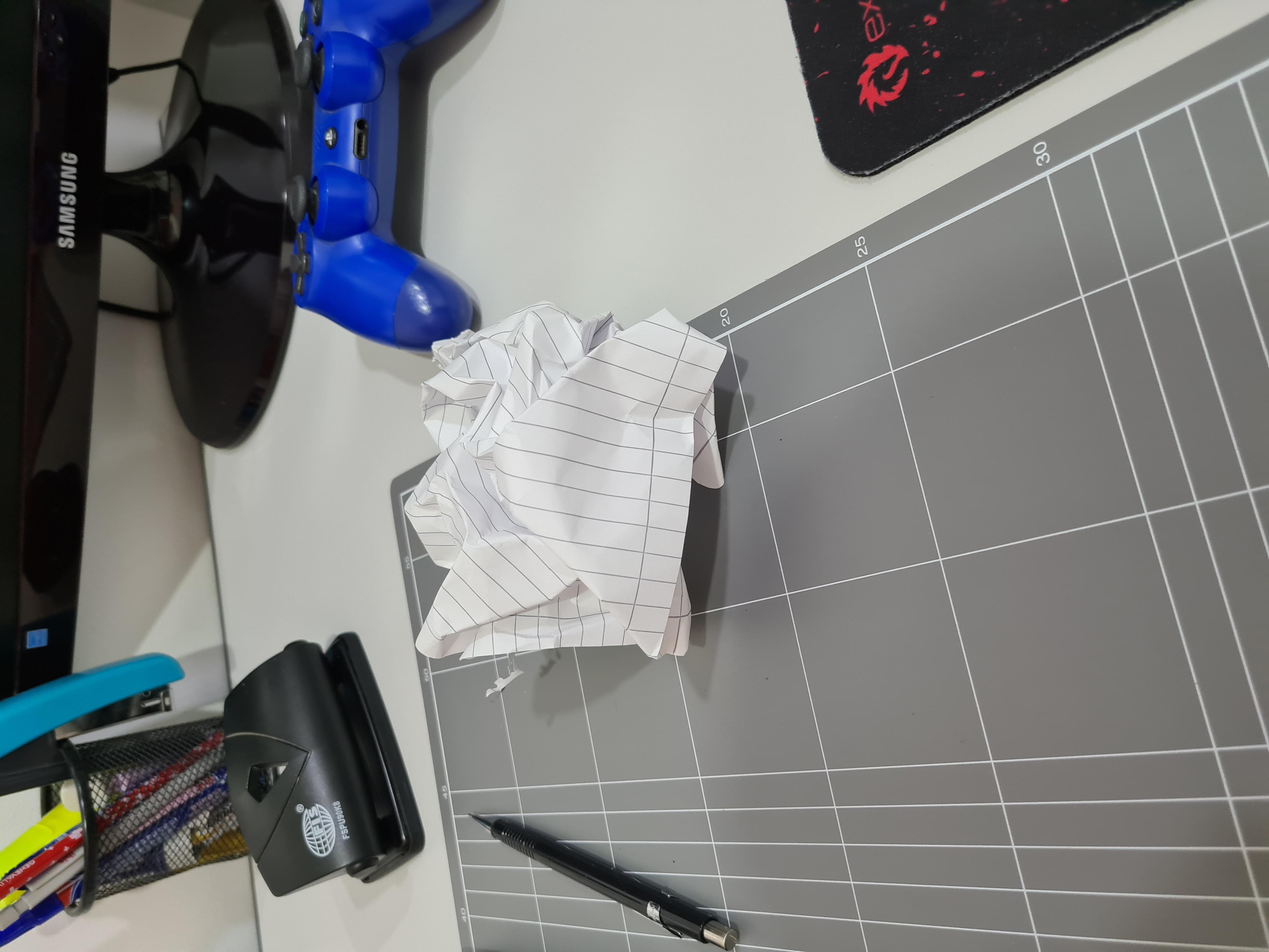paper: (350, 293, 861, 553)
